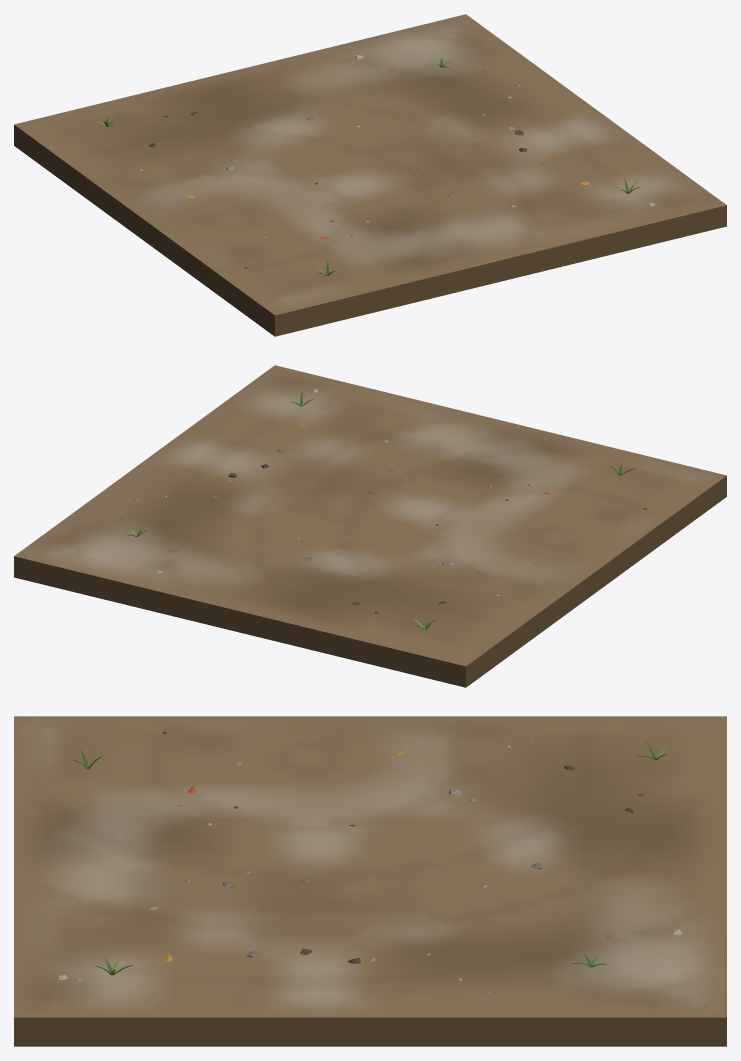
File: packed-earth-tile.glb
3 views of the same model, one above another, from view 1: azimuth 30°, elevation 25°; view 2: azimuth 150°, elevation 25°; view 3: azimuth 270°, elevation 25° (orthographic). The views are drawn at different scales.
Visible parts, largest first — view 1: packed_earth_tile; view 2: packed_earth_tile; view 3: packed_earth_tile.
Boxes of the visible parts, <box> form: packed_earth_tile: <box>14,14,726,336</box>; packed_earth_tile: <box>14,365,726,687</box>; packed_earth_tile: <box>14,716,726,1046</box>.
Size of the model in its own units: 4 by 0.284 by 4.
